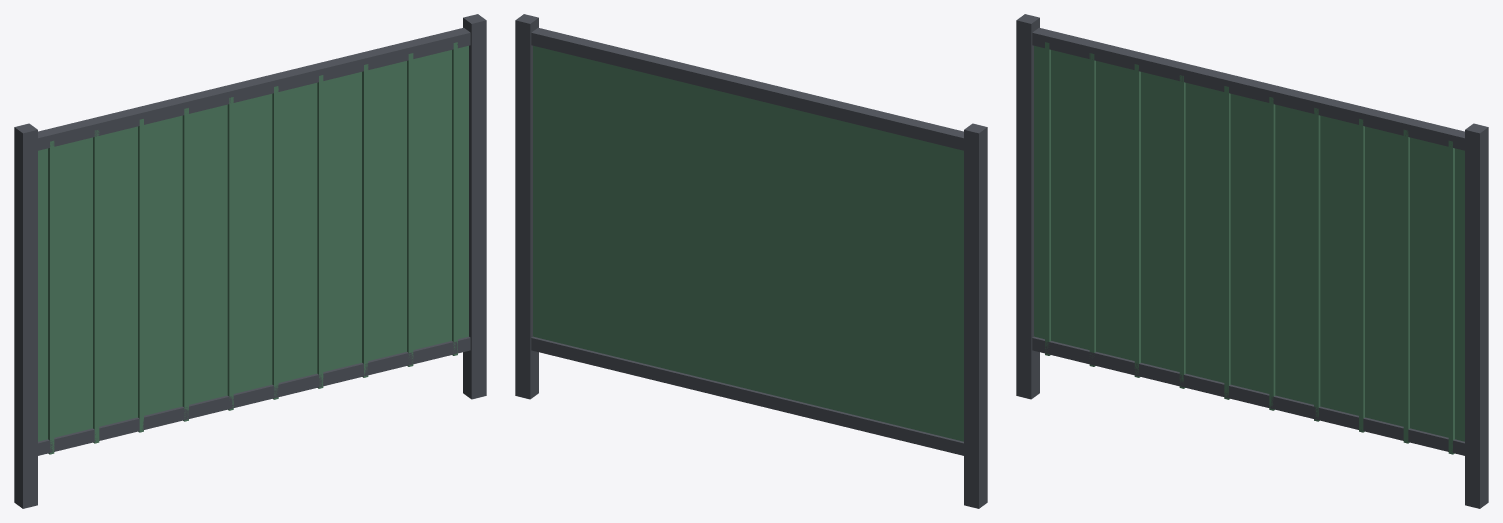
Rendered from site_fence_panel.glb.
3 renders of one model, left to right at view 1: azimuth 30°, elevation 25°; view 2: azimuth 150°, elevation 25°; view 3: azimuth 330°, elevation 25°, orthographic.
Parts seen in each view (by area): view 1: sheet, post, top_rail, post.001, bottom_rail, rib.001, rib, rib.006, rib.005, rib.007, rib.003, rib.008 (+3 smaller); view 2: sheet, post, top_rail, post.001, bottom_rail, rib.006, rib.005, rib.008, rib.007, rib, rib.001, rib.009 (+1 smaller); view 3: sheet, post.001, top_rail, post, bottom_rail, rib.008, rib.009, rib.004, rib.005, rib.002, rib.003, rib.006 (+3 smaller).
Part boxes in pixels (x1,y1,x2,y2): sheet: (38,45,468,441); post: (14,123,37,508); top_rail: (38,27,470,150); post.001: (463,14,486,399); bottom_rail: (38,336,470,455); rib.001: (93,130,99,443); rib: (48,140,54,454); rib.006: (317,75,323,388); rib.005: (272,86,278,399); rib.007: (362,64,368,377); rib.003: (182,108,188,421); rib.008: (407,53,413,366); sheet: (533,45,963,441); post: (964,123,987,508); top_rail: (531,27,963,150); post.001: (515,14,538,399); bottom_rail: (531,336,963,455); rib.006: (680,82,684,373); rib.005: (725,92,729,384); rib.008: (590,60,594,351); rib.007: (635,70,639,362); rib: (949,147,953,438); rib.001: (904,136,908,428); rib.009: (545,49,549,340); sheet: (1034,45,1464,441); post.001: (1465,123,1488,508); top_rail: (1032,27,1464,150); post: (1016,14,1039,399); bottom_rail: (1032,336,1464,455); rib.008: (1403,129,1409,443); rib.009: (1448,140,1454,454); rib.004: (1224,86,1230,399); rib.005: (1269,97,1275,410); rib.002: (1134,64,1140,377); rib.003: (1179,75,1185,388); rib.006: (1314,108,1320,421).
Size of what is drawn, in the model's own units: 3.1 by 2.4 by 0.1.
